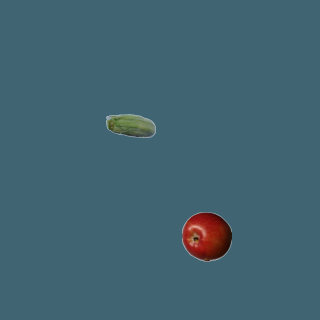Apple Braeburn: (181, 211, 231, 261)
Corn Husk: (105, 102, 155, 152)
